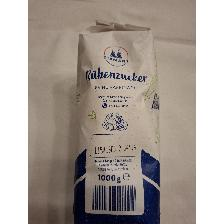Zucker: (72, 18, 162, 224)
